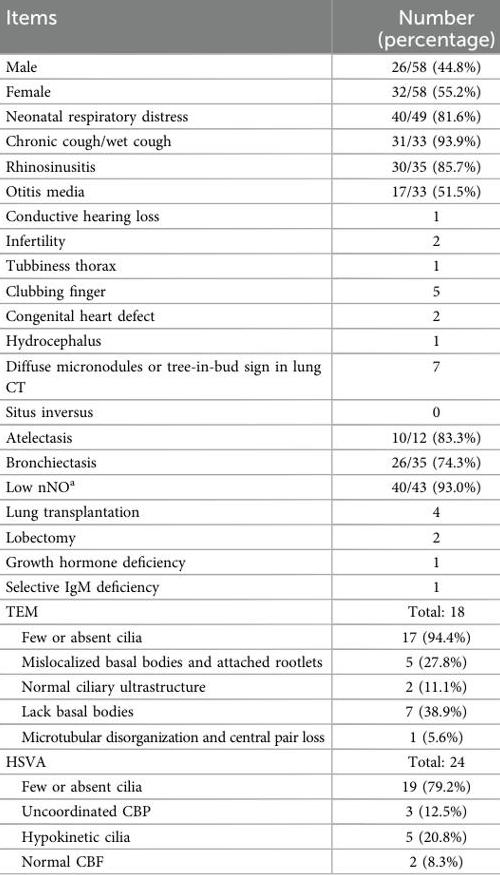table: (4, 5, 494, 869)
table column: (4, 5, 350, 869), (350, 5, 494, 869)
table column header: (4, 5, 494, 53)
table row: (4, 5, 494, 53), (4, 352, 494, 399), (4, 472, 494, 499), (4, 276, 494, 302), (4, 572, 494, 598), (4, 53, 494, 78), (4, 78, 494, 103), (4, 103, 494, 128), (4, 128, 494, 153), (4, 153, 494, 178), (4, 178, 494, 203), (4, 227, 494, 252), (4, 302, 494, 327), (4, 327, 494, 352), (4, 399, 494, 424), (4, 424, 494, 449), (4, 547, 494, 572), (4, 598, 494, 623), (4, 623, 494, 648), (4, 648, 494, 673), (4, 673, 494, 698), (4, 698, 494, 723), (4, 723, 494, 748), (4, 748, 494, 773), (4, 773, 494, 798), (4, 798, 494, 823), (4, 823, 494, 848), (4, 203, 494, 227), (4, 252, 494, 276), (4, 499, 494, 523), (4, 523, 494, 547), (4, 449, 494, 472), (4, 848, 494, 869)
